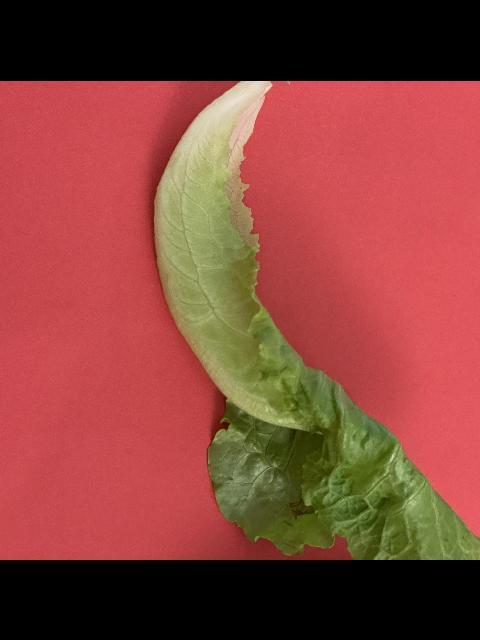lettuce: (149, 80, 480, 560)
